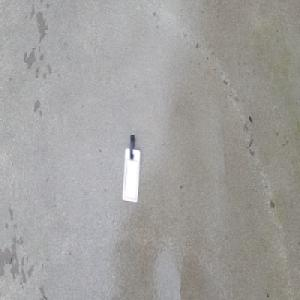LuggageTag: (120, 134, 141, 205)
